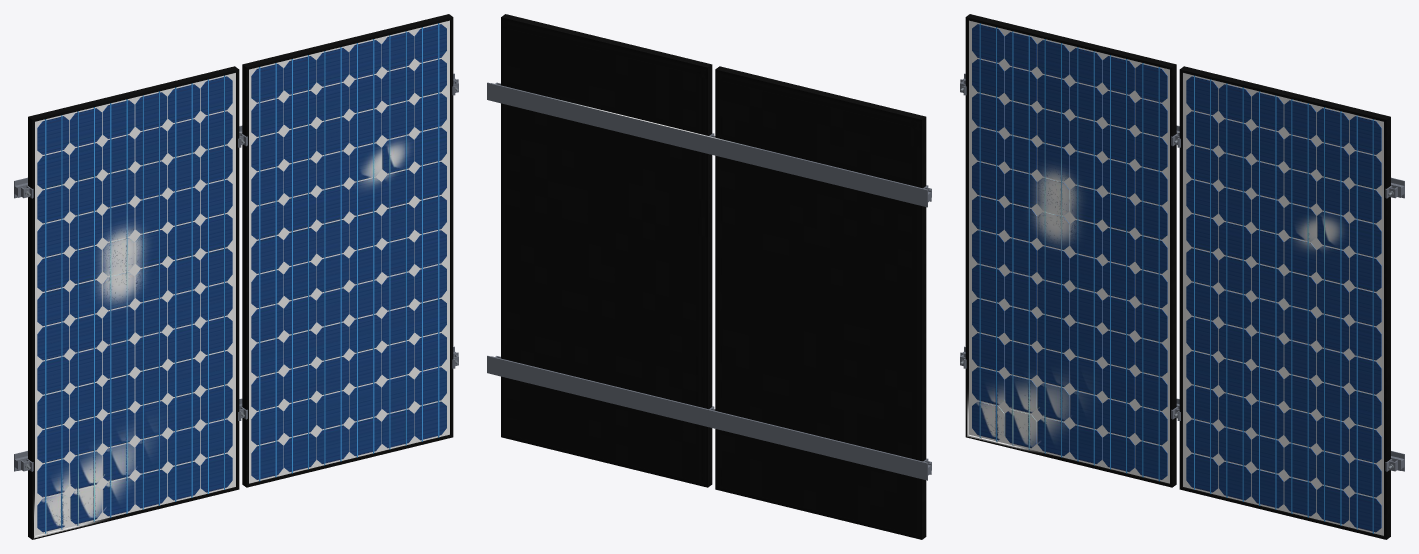
File: solar_panel.dae
3 renders of one model, left to right at view 1: azimuth 30°, elevation 25°; view 2: azimuth 150°, elevation 25°; view 3: azimuth 330°, elevation 25°, orthographic.
Visible parts, largest first — view 1: 10781_Solar-Panels_V1; view 2: 10781_Solar-Panels_V1; view 3: 10781_Solar-Panels_V1.
Boxes of the visible parts, left/top/right/bottom form: 10781_Solar-Panels_V1: left=14, top=14, right=458, bottom=539; 10781_Solar-Panels_V1: left=487, top=14, right=931, bottom=539; 10781_Solar-Panels_V1: left=960, top=14, right=1404, bottom=539.
Size of the model in its own units: 167 by 6.33 by 152.
Materials: 2 (2 with a texture image).
